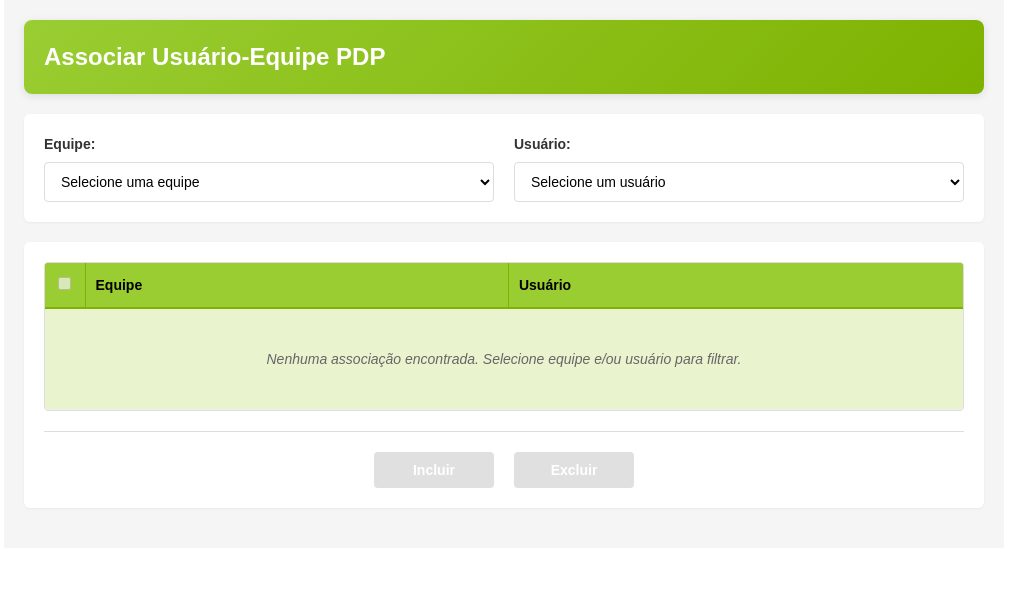
Test: UserTeamAssociation Component › Exclusão de Associação › deve exibir mensagem de sucesso após excluir
Select "EQUIPE ALPHA" in the dropdown with test id "equipe-select": (269, 182) left=44, top=162, right=494, bottom=202
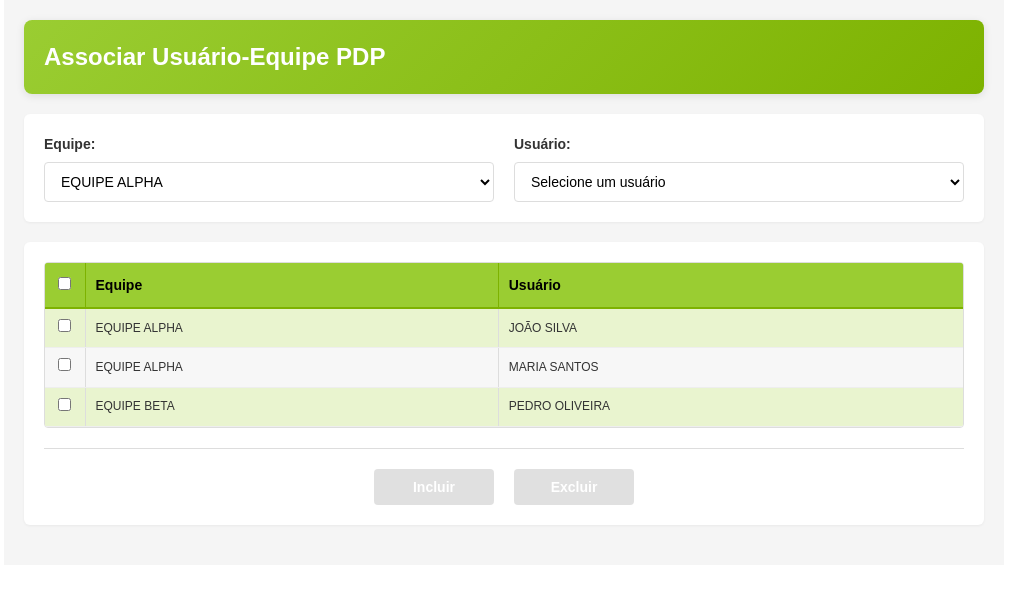
expect the checkbox with test id "checkbox-1" is shown: met
Click the checkbox with test id "checkbox-1": (65, 326) left=58, top=319, right=71, bottom=332
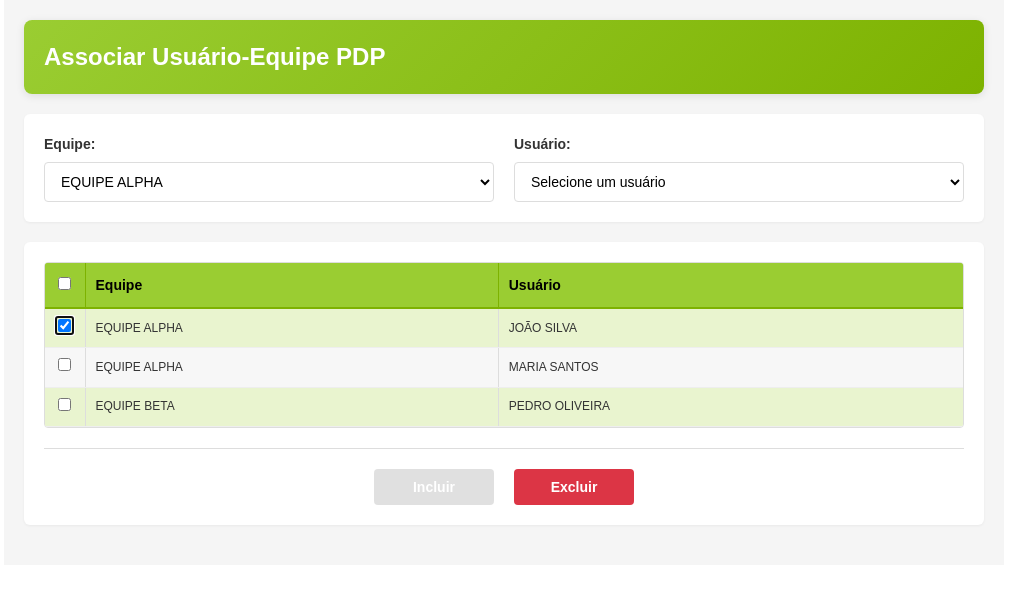
Click the button with test id "excluir-btn": (574, 487) left=514, top=469, right=634, bottom=505
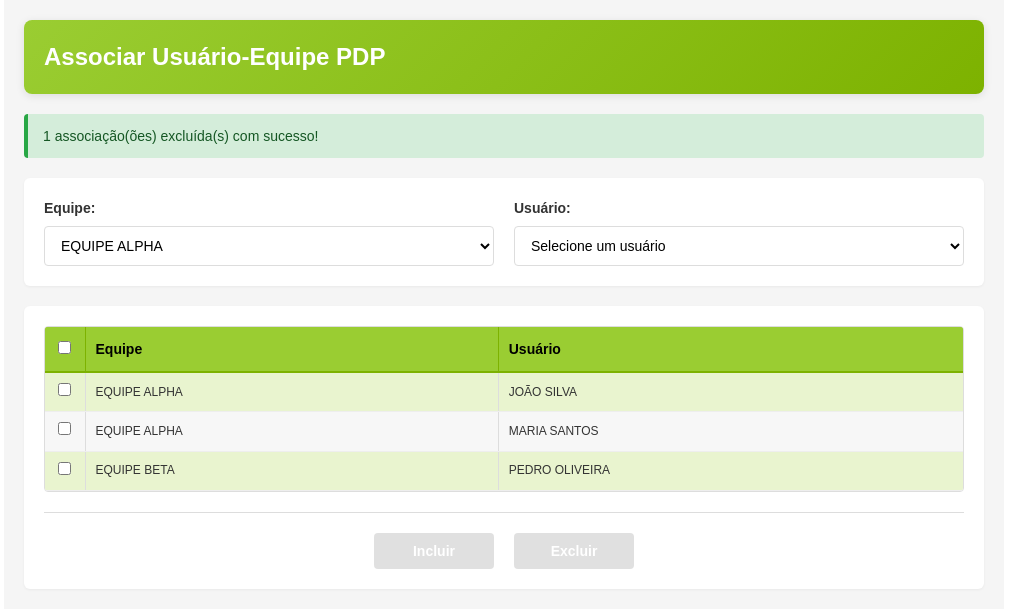
expect the text "1 associação(ões) excluída(s) com sucesso!" is shown: met, box left=24, top=114, right=984, bottom=158
